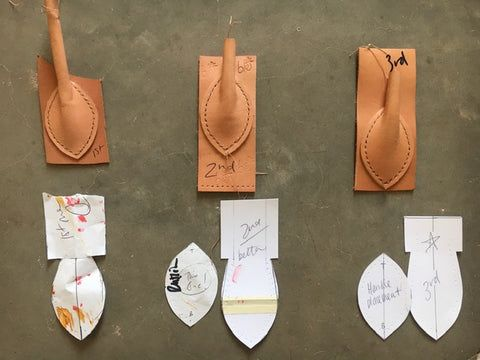cuero: (37, 2, 415, 192)
